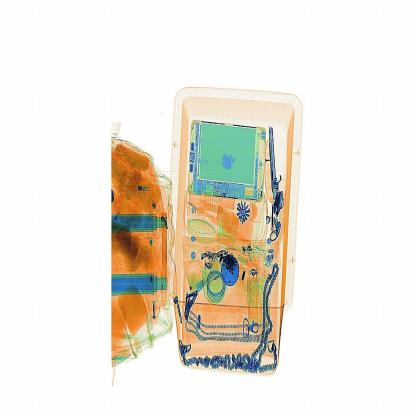pliers: (265, 127, 285, 201)
